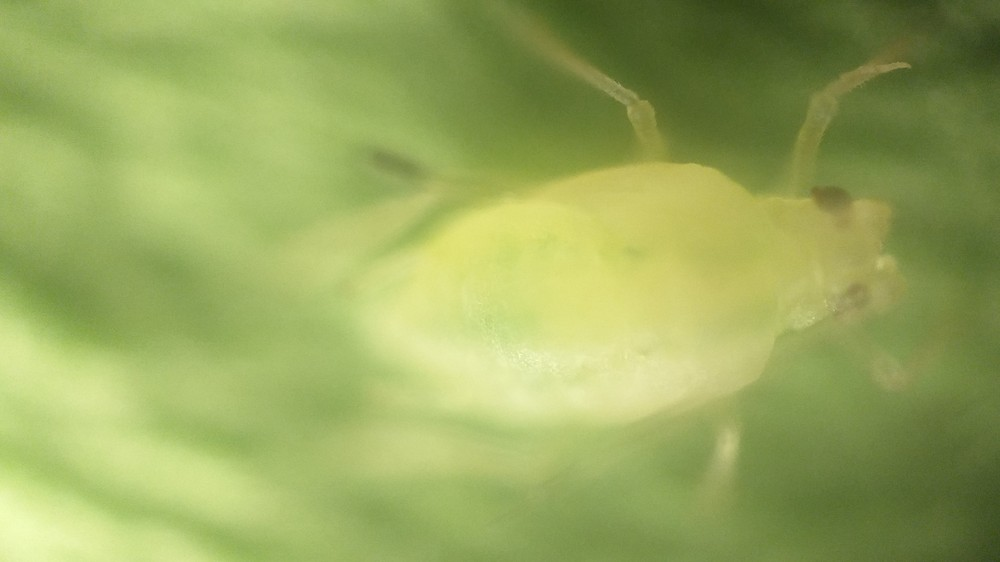Pulgon: (296, 34, 969, 524)
